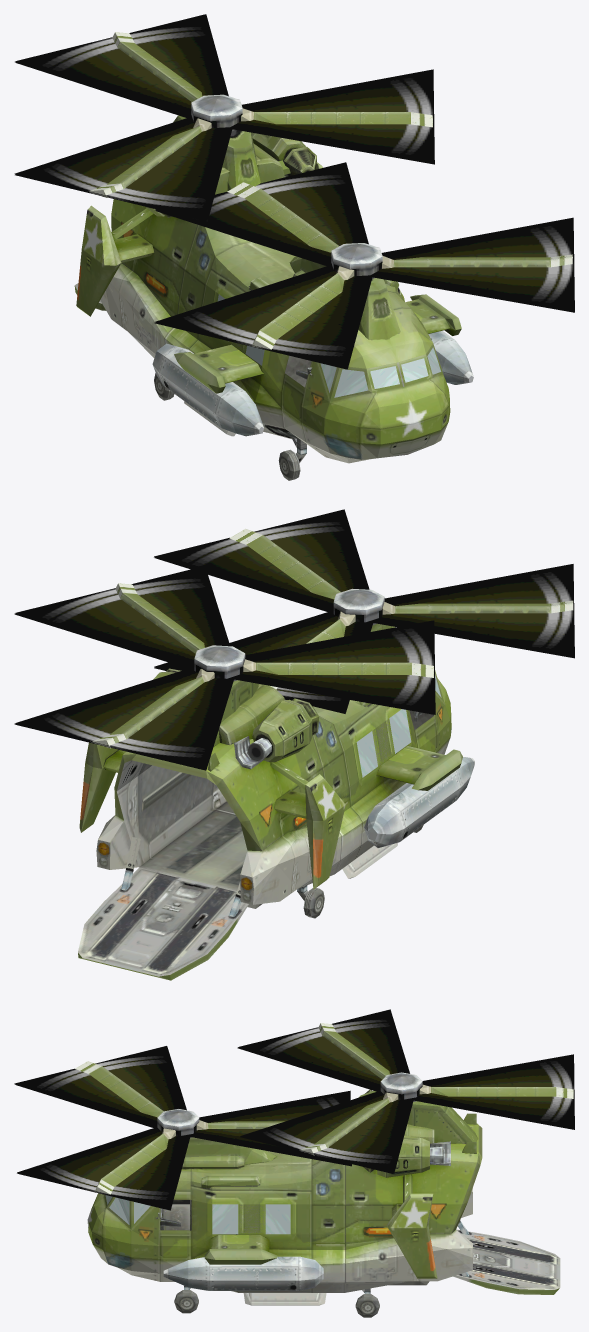
Rendered from VWFTPTH.obj.
3 renders of one model, top to bottom at view 1: azimuth 30°, elevation 25°; view 2: azimuth 150°, elevation 25°; view 3: azimuth 270°, elevation 25°, orthographic. The views are drawn at different scales.
Visible parts, largest first — view 1: Node 0, Node 11, Node 9, Node 8, Node 12, Node 35, Node 5; view 2: Node 0, Node 11, Node 9, Node 23, Node 12, Node 8, Node 35, Node 6; view 3: Node 0, Node 11, Node 9, Node 23, Node 12, Node 8, Node 35, Node 4, Node 3.
Boxes of the visible parts, left/top/right/bottom form: Node 0: left=76, top=115, right=473, bottom=463; Node 11: left=14, top=14, right=434, bottom=221; Node 9: left=154, top=162, right=574, bottom=369; Node 8: left=227, top=182, right=572, bottom=349; Node 12: left=89, top=32, right=432, bottom=197; Node 35: left=217, top=294, right=441, bottom=397; Node 5: left=278, top=437, right=306, bottom=480; Node 0: left=79, top=623, right=474, bottom=908; Node 11: left=14, top=566, right=435, bottom=770; Node 9: left=154, top=509, right=574, bottom=713; Node 23: left=78, top=837, right=248, bottom=980; Node 12: left=90, top=583, right=433, bottom=748; Node 8: left=229, top=528, right=573, bottom=689; Node 35: left=356, top=675, right=441, bottom=777; Node 6: left=297, top=885, right=324, bottom=918; Node 0: left=87, top=1089, right=482, bottom=1305; Node 11: left=237, top=1009, right=574, bottom=1173; Node 9: left=14, top=1046, right=351, bottom=1210; Node 23: left=453, top=1220, right=560, bottom=1294; Node 12: left=299, top=1023, right=573, bottom=1155; Node 8: left=75, top=1061, right=284, bottom=1194; Node 35: left=105, top=1195, right=290, bottom=1234; Node 4: left=355, top=1288, right=379, bottom=1317; Node 3: left=174, top=1286, right=198, bottom=1313.
Bounding box in the file's own units: 16.35 × 9.82 × 23.63.
Materials: 18 (18 with a texture image).
